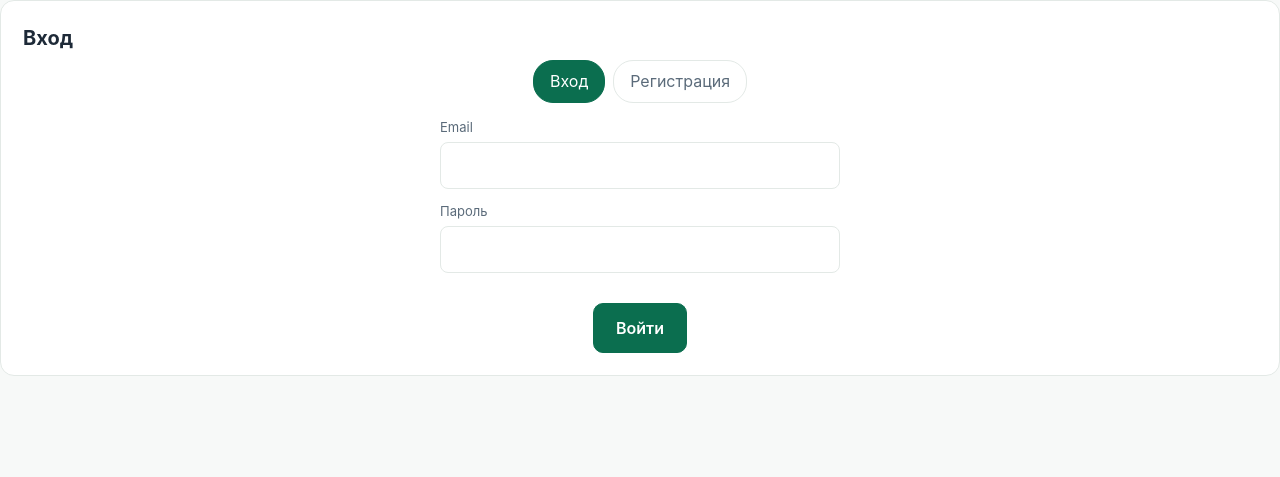
Scenario: AuthForm › validates empty
Click the button "Войти" at [640, 328], box top-left (593, 303), bottom-right (687, 354)
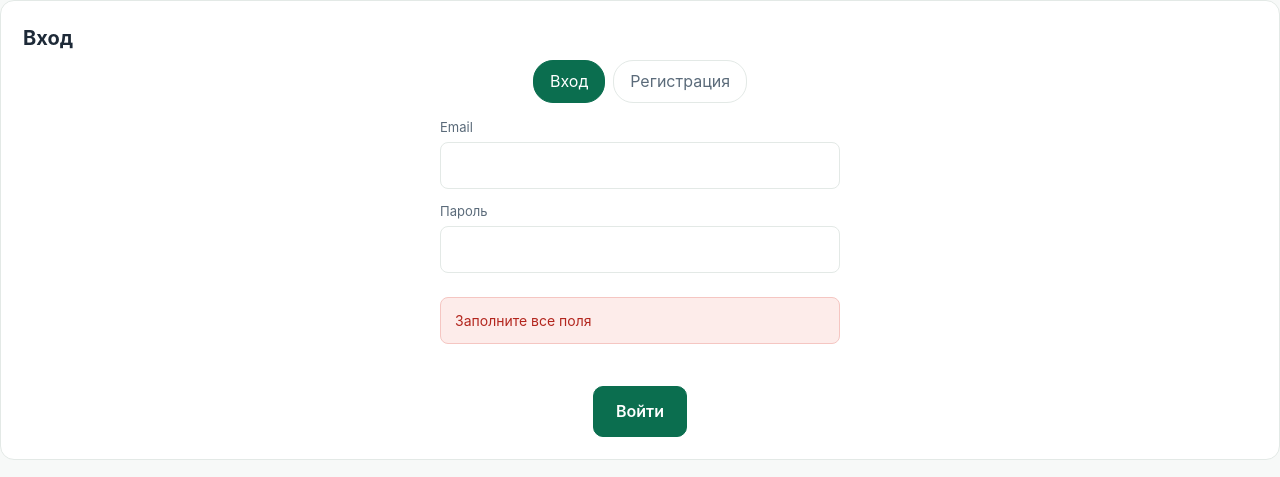
Result: the text "Заполните все поля" is shown at top-left (440, 297), bottom-right (840, 344)
